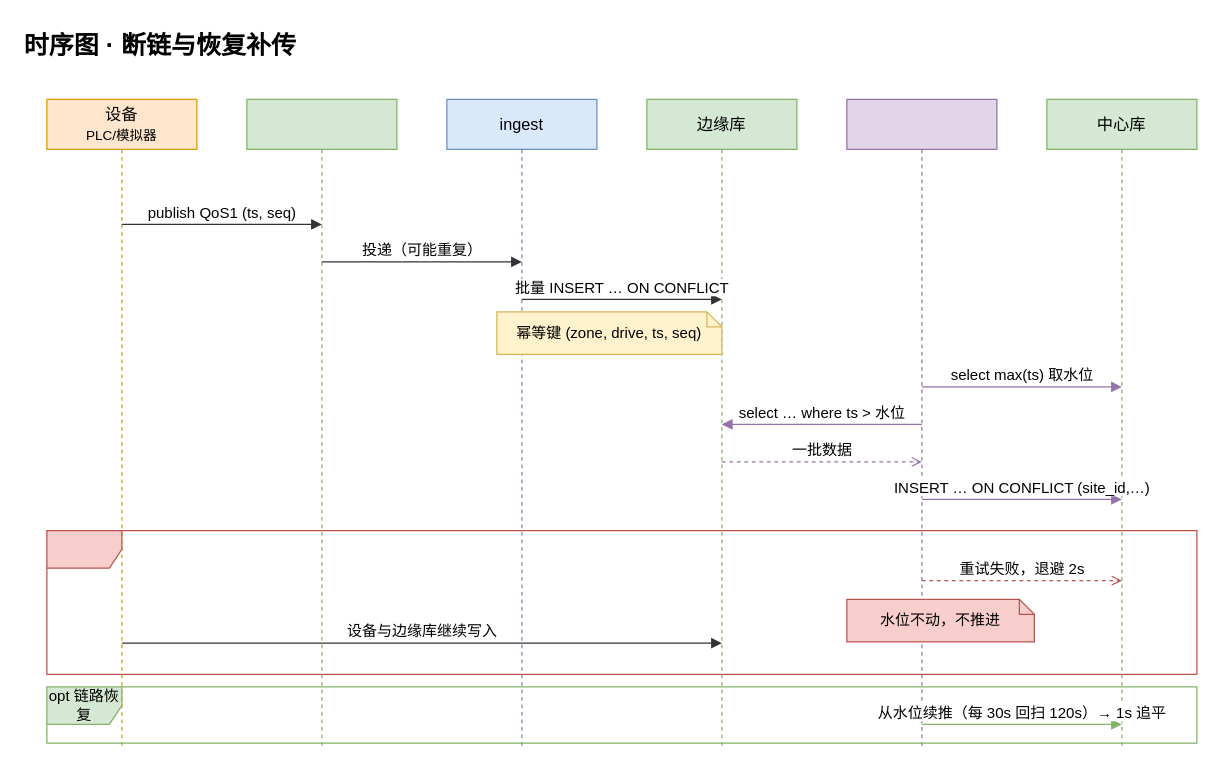
Image size: 1219x771. Some labels were removed from this diagram. The shapes that lost their labels are listed below. From the top down, each one's box as (x1, y1, x2, y2) in pixels, then its label:
(246, 98, 397, 749): 边缘 Broker Mosquitto
(846, 98, 997, 749): forwarder
(46, 529, 1197, 674): alt 链路中断（WAN 断）
